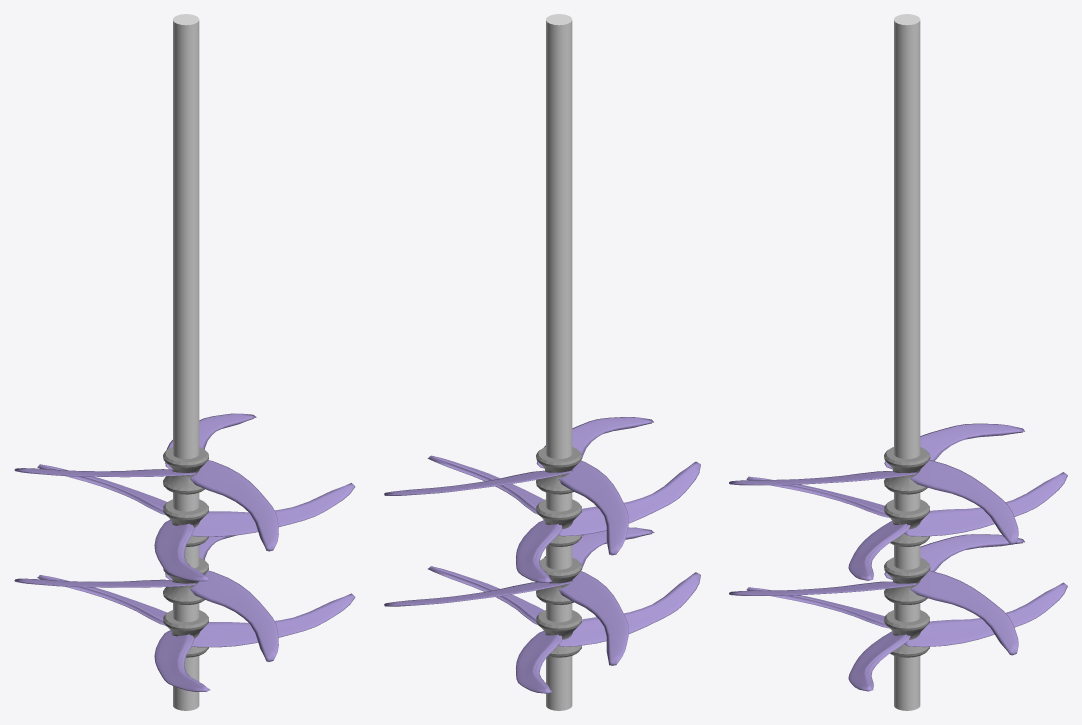
File: Blades.FBX
The picture shows the model from 3 angles, left to right: view 1: azimuth 30°, elevation 25°; view 2: azimuth 150°, elevation 25°; view 3: azimuth 270°, elevation 25°; orthographic projection.
Parts seen in each view (by area): view 1: Middle, Blade2, Blade4, Blade1, Blade3; view 2: Middle, Blade1, Blade4, Blade2, Blade3; view 3: Middle, Blade1, Blade3, Blade4, Blade2.
Part boxes in pixels (x1,y1,x2,y2): Middle: (173, 14, 199, 710); Blade2: (37, 464, 355, 581); Blade4: (37, 575, 355, 691); Blade1: (14, 413, 278, 551); Blade3: (14, 535, 278, 661); Middle: (546, 14, 572, 710); Blade1: (384, 417, 653, 555); Blade4: (428, 566, 700, 693); Blade2: (427, 455, 700, 583); Blade3: (384, 527, 654, 665); Middle: (894, 14, 920, 710); Blade1: (729, 423, 1024, 544); Blade3: (729, 534, 1024, 655); Blade4: (746, 582, 1067, 691); Blade2: (746, 472, 1067, 580).
Bounding box in the file's own units: 17607 × 43721 × 19583.
